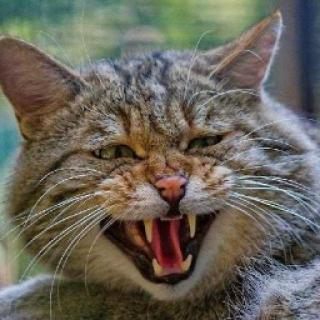cat: (2, 23, 308, 300)
nose: (144, 159, 195, 205)
